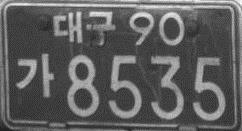0: (158, 11, 185, 47)
3: (149, 54, 184, 122)
5: (190, 54, 228, 122), (106, 53, 143, 119)
8: (66, 54, 99, 118)
9: (128, 10, 156, 45)
가: (15, 52, 55, 100)
대구_O: (52, 9, 116, 45)
